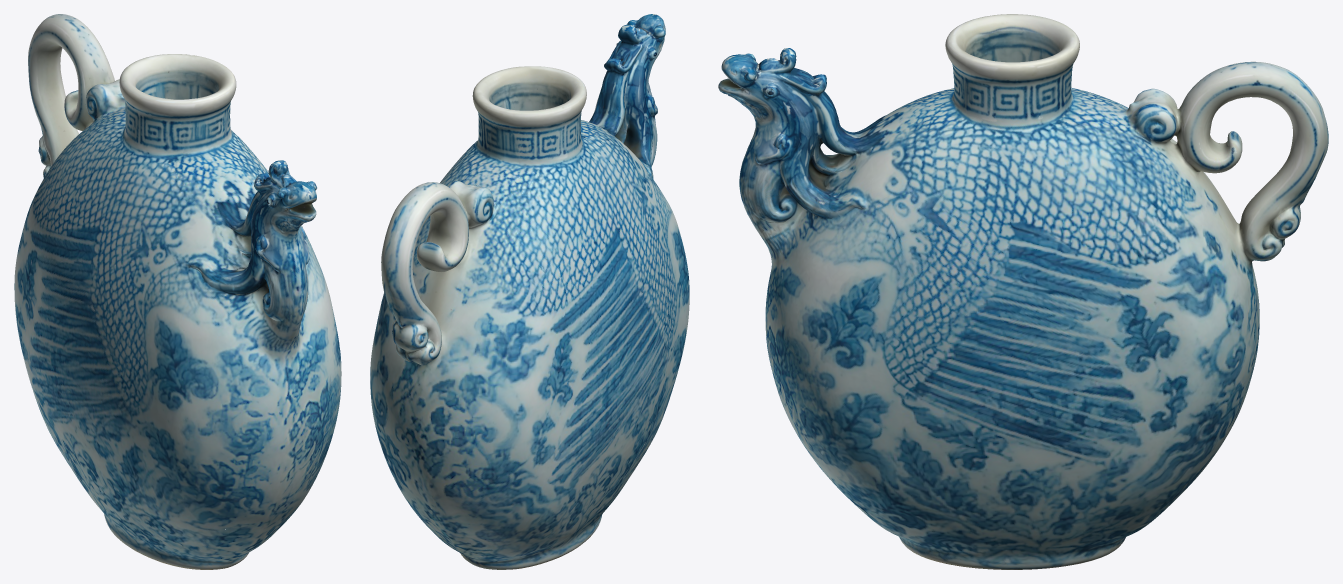
Rendered from phoenix-web-desktop.glb.
3 renders of one model, left to right at view 1: azimuth 30°, elevation 25°; view 2: azimuth 150°, elevation 25°; view 3: azimuth 270°, elevation 25°, orthographic. The views are drawn at different scales.
Visible parts, largest first — view 1: tripo_node_07039654-0ade-49d4-918f-1af4125001a4; view 2: tripo_node_07039654-0ade-49d4-918f-1af4125001a4; view 3: tripo_node_07039654-0ade-49d4-918f-1af4125001a4.
Boxes of the visible parts, x1,y1,x2,y2 form: tripo_node_07039654-0ade-49d4-918f-1af4125001a4: (14, 14, 341, 569); tripo_node_07039654-0ade-49d4-918f-1af4125001a4: (370, 14, 689, 569); tripo_node_07039654-0ade-49d4-918f-1af4125001a4: (718, 14, 1328, 569).
Bounding box in the file's own units: 0.4212 × 0.8936 × 0.9791.
1 material, 1 textured.
